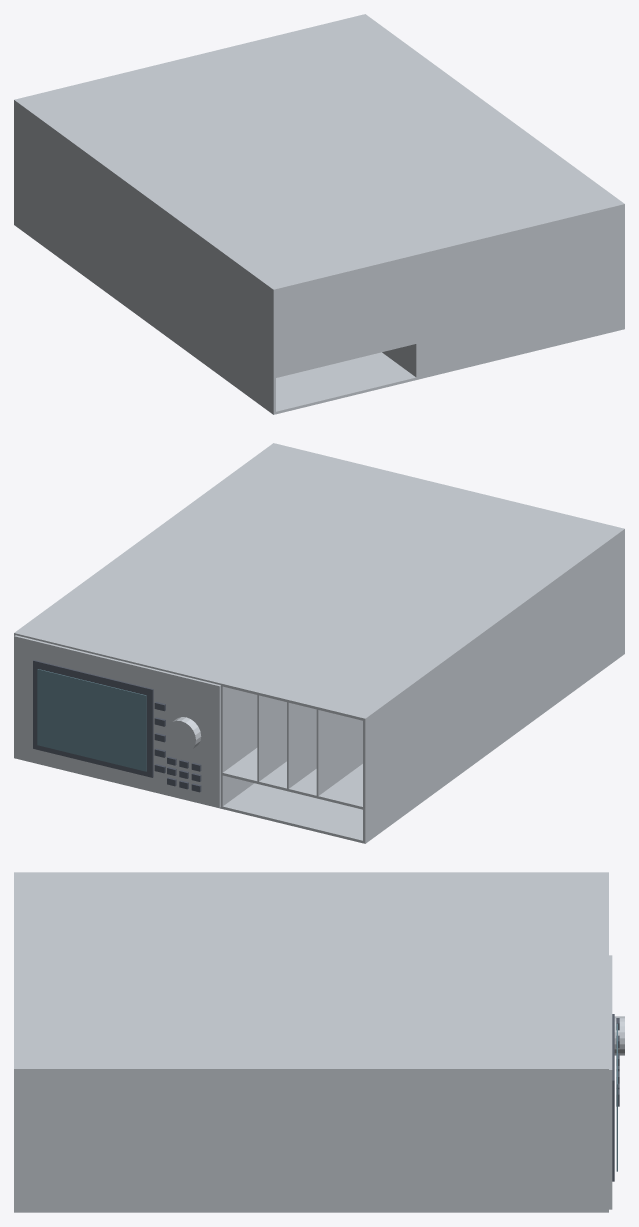
The model's file is oband-mainframe-8164b.glb.
The picture shows the model from 3 angles, top to bottom: view 1: azimuth 30°, elevation 25°; view 2: azimuth 150°, elevation 25°; view 3: azimuth 270°, elevation 25°; orthographic projection. The views are drawn at different scales.
Visible parts, largest first — view 1: silver left electronics enclosure, silver removable top cover, silver right wall, silver compact bay rear wall, silver bottom plate; view 2: silver left electronics enclosure, silver removable top cover, silver right wall, silver left front panel, screen glass, silver vertical slot divider (×3), silver bottom plate, silver horizontal bay divider, black display bezel, silver rotary control; view 3: silver left electronics enclosure, silver removable top cover, silver left front panel, black display bezel.
Boxes of the visible parts, x1=… form: silver left electronics enclosure: x1=157, y1=14, x2=624, y2=379; silver removable top cover: x1=14, y1=65, x2=416, y2=292; silver right wall: x1=14, y1=102, x2=275, y2=412; silver compact bay rear wall: x1=276, y1=257, x2=416, y2=377; silver bottom plate: x1=14, y1=222, x2=416, y2=414; silver left electronics enclosure: x1=14, y1=443, x2=481, y2=808; silver removable top cover: x1=222, y1=494, x2=624, y2=721; silver right wall: x1=363, y1=531, x2=624, y2=841; silver left front panel: x1=14, y1=635, x2=220, y2=807; screen glass: x1=37, y1=669, x2=146, y2=771; silver vertical slot divider (×3): x1=257, y1=695, x2=362, y2=795; silver bottom plate: x1=222, y1=651, x2=624, y2=843; silver horizontal bay divider: x1=222, y1=748, x2=362, y2=809; black display bezel: x1=33, y1=660, x2=153, y2=777; silver rotary control: x1=166, y1=717, x2=201, y2=752; silver left electronics enclosure: x1=14, y1=952, x2=608, y2=1212; silver removable top cover: x1=14, y1=872, x2=608, y2=952; silver left front panel: x1=609, y1=955, x2=612, y2=1209; black display bezel: x1=612, y1=1014, x2=614, y2=1181.
Size of the model in its own units: 0.426 by 0.153 by 0.5595.
